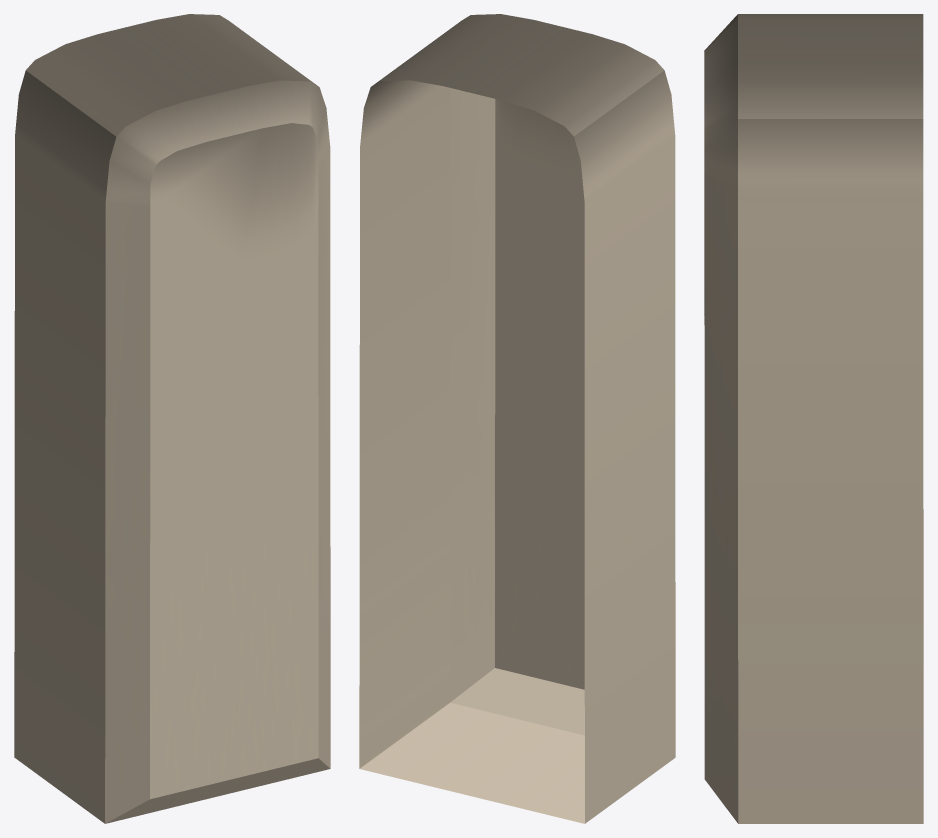
File: StoneDoorButton.fbx
The picture shows the model from 3 angles, left to right: view 1: azimuth 30°, elevation 25°; view 2: azimuth 150°, elevation 25°; view 3: azimuth 270°, elevation 25°; orthographic projection. The views are drawn at different scales.
Parts seen in each view (by area): view 1: Object; view 2: Object; view 3: Object.
Boxes of the visible parts, x1,y1,x2,y2 form: Object: [14, 14, 330, 823]; Object: [359, 14, 675, 823]; Object: [704, 14, 923, 823].
Size of the model in its own units: 4.11 by 12.25 by 3.39.
